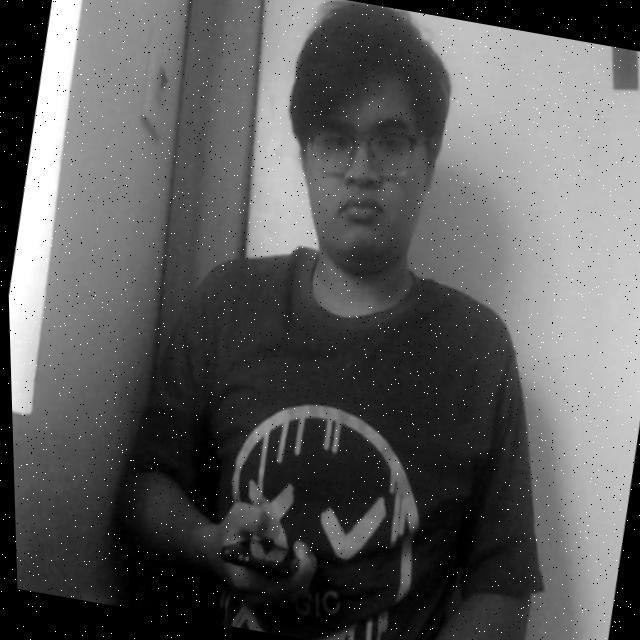phone: (204, 492, 324, 614)
